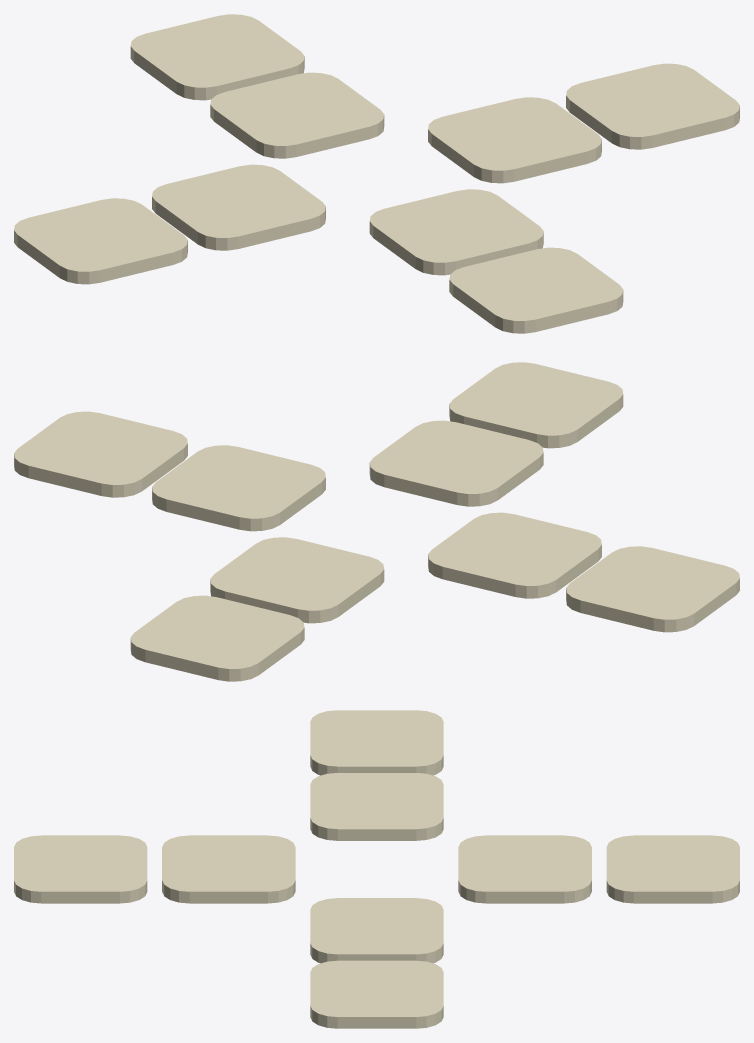
The model's file is movecase2.fbx.
The picture shows the model from 3 angles, top to bottom: view 1: azimuth 30°, elevation 25°; view 2: azimuth 150°, elevation 25°; view 3: azimuth 270°, elevation 25°; orthographic projection. The views are drawn at different scales.
Visible parts, largest first — view 1: bottom2, top1, right2, left2, right1, left1, top2, bottom1; view 2: top2, bottom1, right2, left2, right1, left1, bottom2, top1; view 3: right2, bottom1, top1, top2, bottom2, left1, left2, right1.
Part boxes in pixels (bbox=[...]): bottom2: bbox=[449, 247, 623, 333]; top1: bbox=[210, 72, 384, 158]; right2: bbox=[566, 63, 739, 149]; left2: bbox=[14, 198, 187, 284]; right1: bbox=[428, 97, 601, 183]; left1: bbox=[152, 164, 325, 250]; top2: bbox=[130, 14, 304, 100]; bottom1: bbox=[369, 189, 543, 275]; top2: bbox=[130, 595, 304, 681]; bottom1: bbox=[369, 420, 543, 506]; right2: bbox=[14, 411, 187, 497]; left2: bbox=[566, 546, 739, 632]; right1: bbox=[152, 445, 325, 531]; left1: bbox=[428, 512, 601, 598]; bottom2: bbox=[449, 362, 623, 448]; top1: bbox=[210, 537, 384, 623]; right2: bbox=[310, 960, 443, 1028]; bottom1: bbox=[162, 835, 295, 903]; top1: bbox=[458, 835, 591, 903]; top2: bbox=[606, 835, 739, 903]; bottom2: bbox=[14, 835, 147, 903]; left1: bbox=[310, 773, 443, 840]; left2: bbox=[310, 710, 443, 775]; right1: bbox=[310, 898, 443, 963].
Bounding box in the file's own units: 980 × 17.43 × 980.
